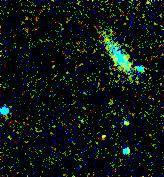star: (87, 119, 117, 149)
